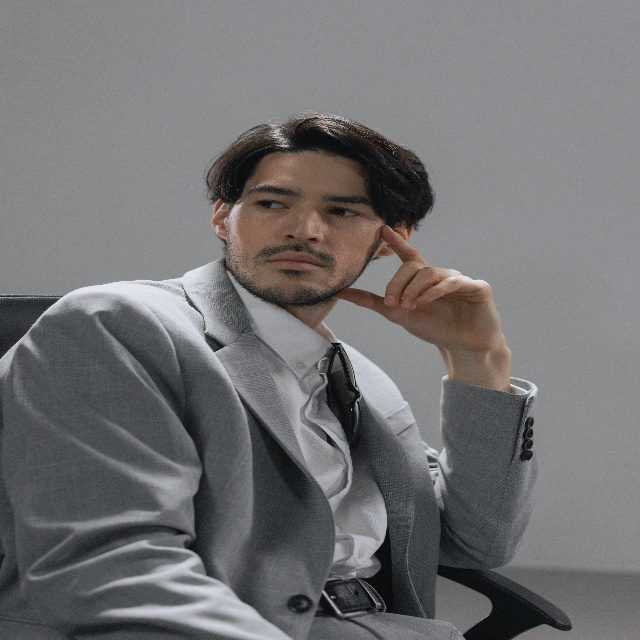Gafas: (325, 342, 363, 451)
Sin_guantes: (339, 230, 508, 349)
